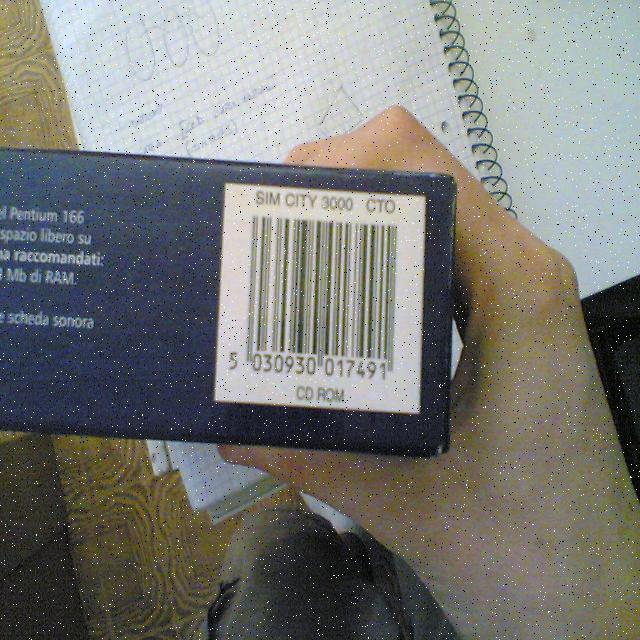barcode: (215, 183, 425, 413)
